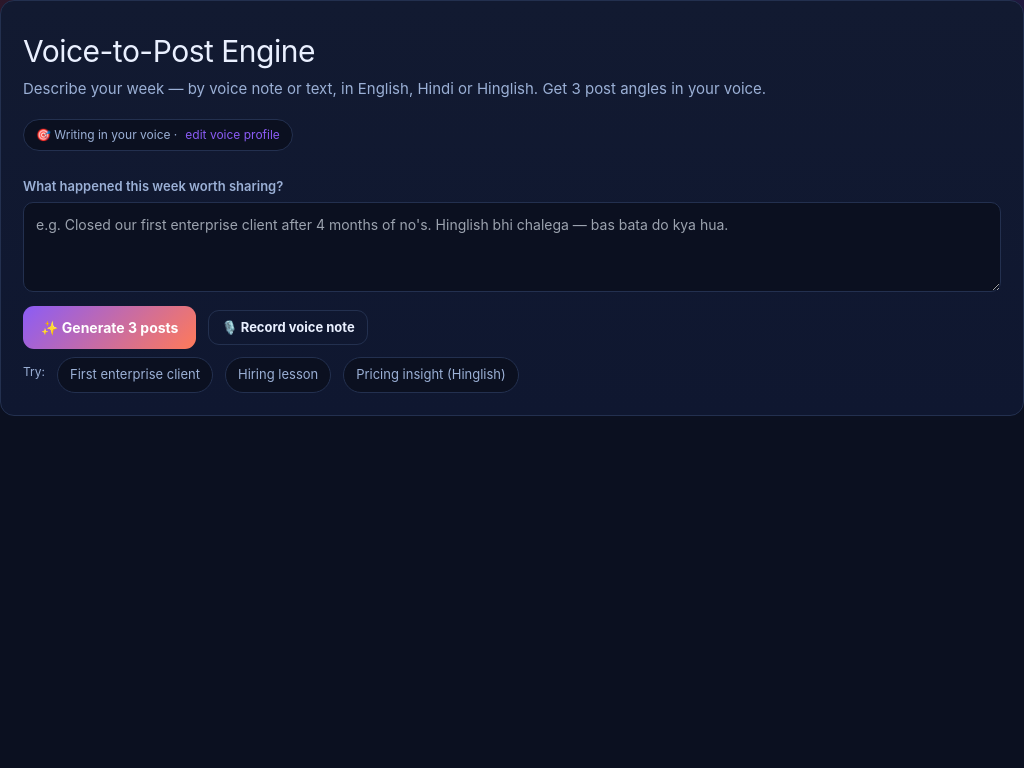
Test: <GenerateClient> › a 402 quota_exceeded response opens the Paywall
The image size is (1024, 768).
Type "over the cap now" into the text box labelled "What happened this week worth sharing?" at (512, 247), box [23, 202, 1001, 292]
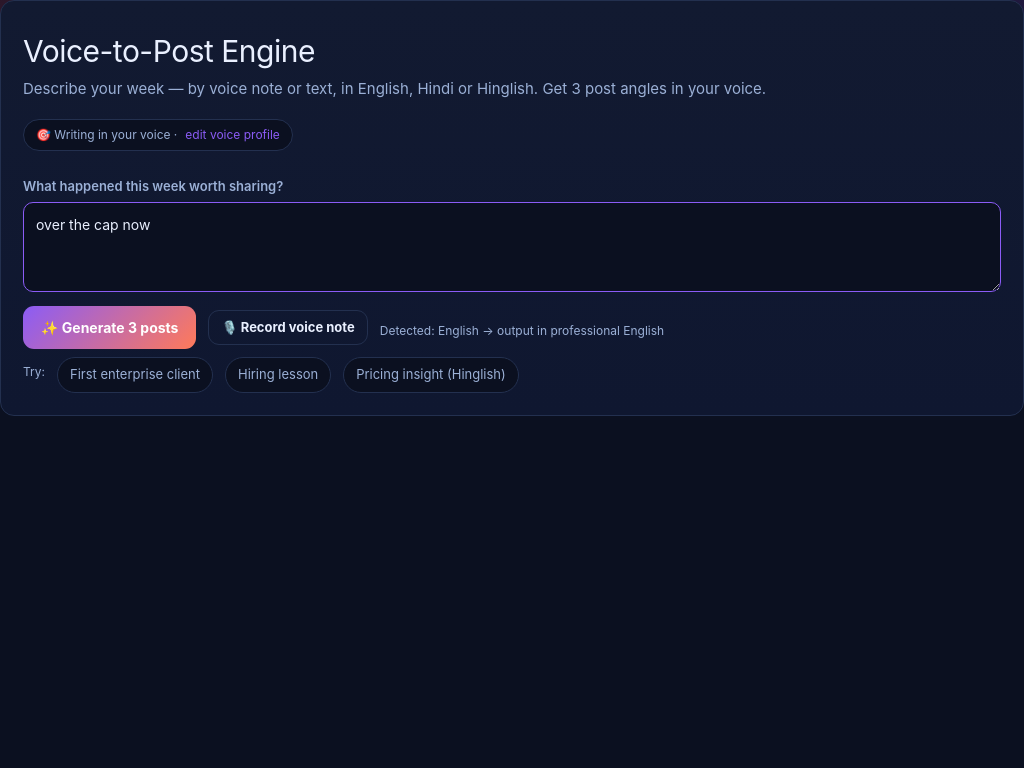
Click the button "✨ Generate 3 posts" at (110, 328), box [23, 306, 196, 349]
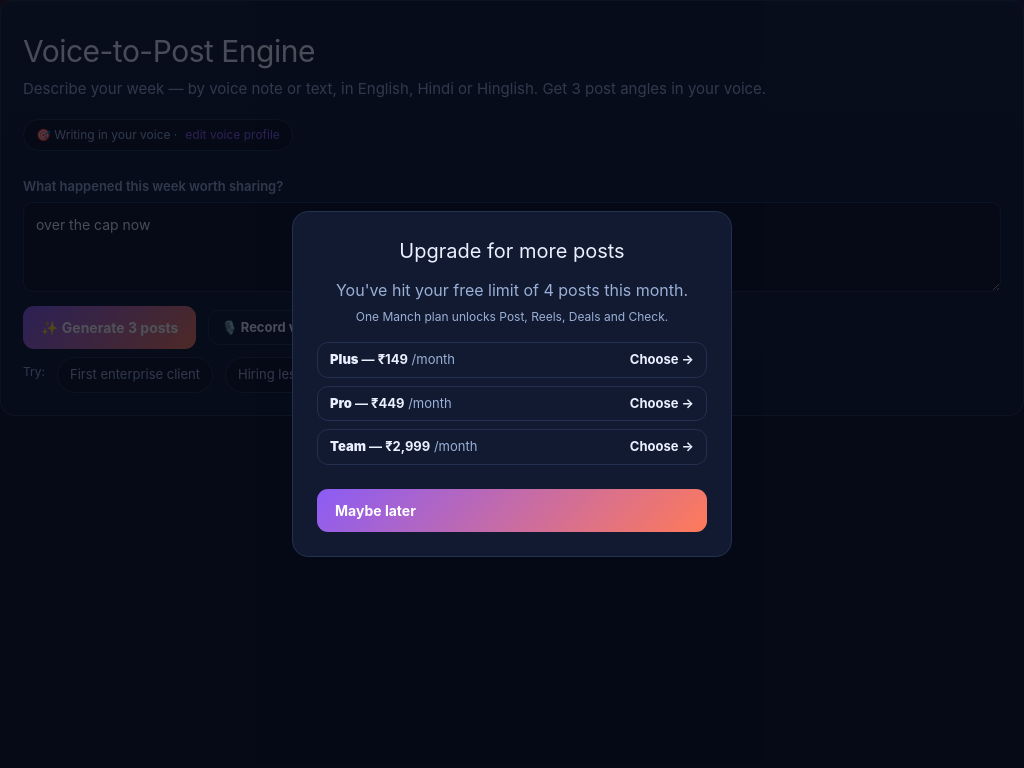
Check: the heading "Upgrade for more posts" is shown, box [399, 239, 625, 263]
Check: the button "Maybe later" is shown, box [317, 489, 707, 532]
